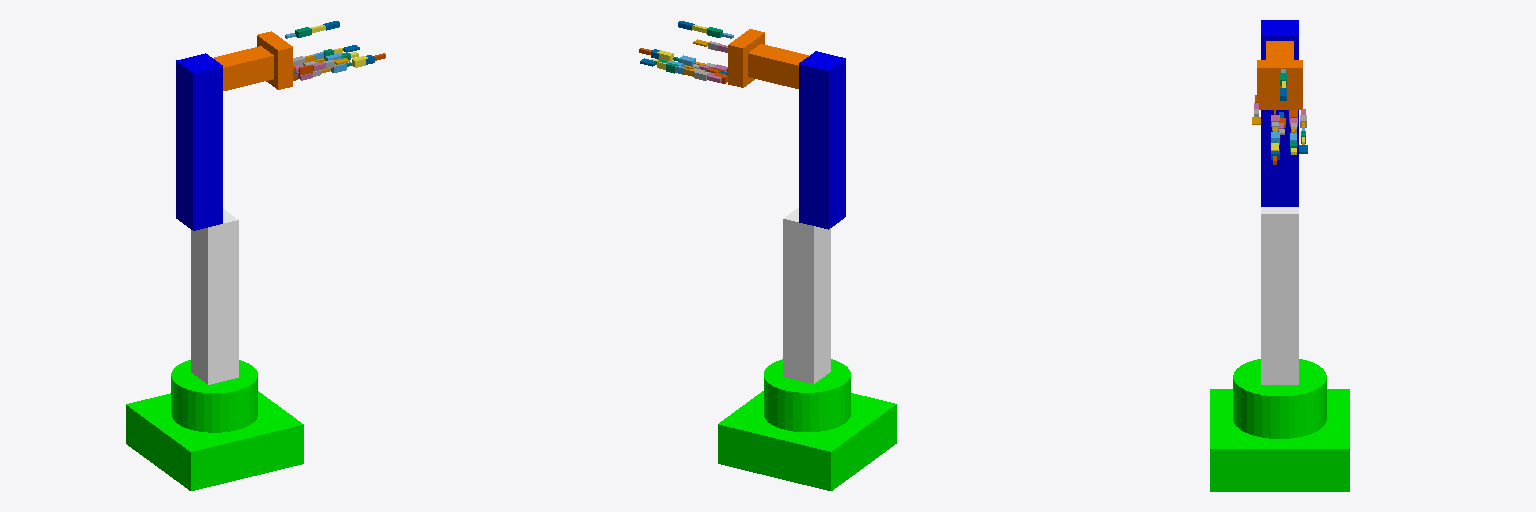
--- What the picture shows (computed from the rendered views, not written in the file) ---
3 views of the same robot in one strip: view 1: azimuth 30°, elevation 25°; view 2: azimuth 150°, elevation 25°; view 3: azimuth 270°, elevation 25° (orthographic).
Model robot with 40 links and 39 joints (36 revolute, 1 continuous, 2 fixed), rooted at base_link, posed every joint at zero.
Visible links, largest first — view 1: base_link, arm_link, support_link, wrist_link, palm_link; view 2: base_link, arm_link, support_link, wrist_link, palm_link; view 3: base_link, support_link, arm_link, palm_link, wrist_link.
Boxes of the visible links, box(x1,y1,x2,y2) form: base_link: box(126, 360, 303, 490); arm_link: box(176, 53, 222, 230); support_link: box(191, 209, 238, 384); wrist_link: box(213, 46, 273, 90); palm_link: box(257, 31, 292, 89); base_link: box(718, 359, 896, 490); arm_link: box(799, 51, 845, 229); support_link: box(783, 208, 830, 383); wrist_link: box(748, 44, 808, 88); palm_link: box(728, 29, 764, 87); base_link: box(1210, 359, 1349, 491); support_link: box(1261, 207, 1298, 384); arm_link: box(1261, 20, 1298, 206); palm_link: box(1257, 60, 1302, 109); wrist_link: box(1266, 41, 1293, 59).
Bounding box of the posed robot: 1.49 × 0.75 × 2.54 m (x, y, z).
Geometry: primitives only (box / cylinder / sphere), no mesh files.

The robot description file, URDF, robot "robot":
<?xml version='1.0' encoding='utf-8'?>
<robot name="robot">
  <link name="base_link">
    <visual>
      <origin xyz="0 0 0.125" rpy="0 0 0" />
      <geometry>
        <box size="0.75 0.75 0.25" />
      </geometry>
      <material name="green" />
    </visual>
    <visual>
      <origin xyz="0 0 0.375" rpy="0 0 0" />
      <geometry>
        <cylinder length="0.25" radius="0.25" />
      </geometry>
      <material name="green">
        <color rgba="0 1 0 1" />
      </material>
    </visual>
    <collision>
      <geometry>
        <box size="0.75 0.75 0.5" />
      </geometry>
    </collision>
    <inertial>
      <mass value="0.5" />
      <inertia ixx="0.034" ixy="0.0" ixz="0.0" iyy="0.034" iyz="0.0" izz="0.034" />
    </inertial>
  </link>
  <link name="support_link">
    <visual>
      <origin xyz="0 0 0.5" rpy="0 0 0" />
      <geometry>
        <box size="0.2 0.2 1" />
      </geometry>
      <material name="white">
        <color rgba="1 1 1 1" />
      </material>
    </visual>
    <collision>
      <geometry>
        <box size="0.2 0.2 1" />
      </geometry>
    </collision>
    <inertial>
      <mass value="0.1" />
      <inertia ixx="0.01" ixy="0.0" ixz="0.0" iyy="0.01" iyz="0.0" izz="0.01" />
    </inertial>
  </link>
  <joint name="support_joint" type="continuous">
    <origin xyz="0 0 0.5" rpy="0 0 0" />
    <parent link="base_link" />
    <child link="support_link" />
    <axis xyz="0 0 1" />
  </joint>
  <link name="arm_link">
    <visual>
      <origin xyz="0 0 0.5" rpy="0 0 0" />
      <geometry>
        <box size="0.2 0.2 1" />
      </geometry>
      <material name="blue">
        <color rgba="0 0 1 1" />
      </material>
    </visual>
    <collision>
      <geometry>
        <box size="0.2 0.2 1" />
      </geometry>
    </collision>
    <inertial>
      <mass value="0.1" />
      <inertia ixx="0.01" ixy="0.0" ixz="0.0" iyy="0.01" iyz="0.0" izz="0.01" />
    </inertial>
  </link>
  <joint name="arm_joint" type="revolute">
    <origin xyz="-0.1 0 1" rpy="0 0 0" />
    <parent link="support_link" />
    <child link="arm_link" />
    <axis xyz="0 1 0" />
    <limit lower="-3.14" upper="3.14" effort="1.0" velocity="1.0" />
  </joint>
  <link name="wrist_link">
    <visual>
      <origin xyz="0 0 0.25" rpy="0 0 0" />
      <geometry>
        <box size="0.15 0.15 0.5" />
      </geometry>
      <material name="orange">
        <color rgba="1 0.5 0 1" />
      </material>
    </visual>
    <collision>
      <geometry>
        <box size="0.15 0.15 0.5" />
      </geometry>
    </collision>
    <inertial>
      <mass value="0.1" />
      <inertia ixx="0.01" ixy="0.0" ixz="0.0" iyy="0.01" iyz="0.0" izz="0.01" />
    </inertial>
  </link>
  <joint name="wrist_joint" type="fixed">
    <origin xyz="0 0 0.9" rpy="0 1.571 0" />
    <parent link="arm_link" />
    <child link="wrist_link" />
  </joint>
  <link name="palm_link">
    <visual>
      <origin xyz="0 0 0.05" rpy="0 0 0" />
      <geometry>
        <box size="0.25 0.25 0.1" />
      </geometry>
      <material name="orange" />
    </visual>
    <collision>
      <geometry>
        <box size="0.25 0.25 0.1" />
      </geometry>
    </collision>
    <inertial>
      <mass value="0.1" />
      <inertia ixx="0.01" ixy="0.0" ixz="0.0" iyy="0.01" iyz="0.0" izz="0.01" />
    </inertial>
  </link>
  <joint name="palm_joint" type="fixed">
    <origin xyz="0 0 0.45" rpy="0 0 0" />
    <parent link="wrist_link" />
    <child link="palm_link" />
  </joint>
  <link name="finger_link_0_0">
    <visual>
      <origin xyz="0 0 0.041" rpy="0 0 0" />
      <geometry>
        <box size="0.047 0.012 0.082" />
      </geometry>
    </visual>
    <collision>
      <geometry>
        <box size="0.047 0.012 0.082" />
      </geometry>
    </collision>
    <inertial>
      <mass value="0.014" />
      <inertia ixx="0.0" iyy="0.0" izz="0.0" ixy="0" ixz="0" iyz="0" />
    </inertial>
  </link>
  <joint name="finger_joint_palm_link_to_finger_link_0_0" type="revolute">
    <origin xyz="0.04 -0.125 0.141" rpy="0 0 0" />
    <parent link="palm_link" />
    <child link="finger_link_0_0" />
    <axis xyz="1.0 0.0 0.0" />
    <limit lower="-3.142" upper="3.142" effort="10" velocity="10" />
  </joint>
  <link name="finger_link_0_1">
    <visual>
      <origin xyz="0 0 0.0465" rpy="0 0 0" />
      <geometry>
        <box size="0.033 0.024 0.093" />
      </geometry>
    </visual>
    <collision>
      <geometry>
        <box size="0.033 0.024 0.093" />
      </geometry>
    </collision>
    <inertial>
      <mass value="0.022" />
      <inertia ixx="0.0" iyy="0.0" izz="0.0" ixy="0" ixz="0" iyz="0" />
    </inertial>
  </link>
  <joint name="finger_joint_finger_link_0_0_to_finger_link_0_1" type="revolute">
    <origin xyz="0.0 0.0 0.088" rpy="0 0 0" />
    <parent link="finger_link_0_0" />
    <child link="finger_link_0_1" />
    <axis xyz="1.0 0.0 0.0" />
    <limit lower="-3.142" upper="3.142" effort="10" velocity="10" />
  </joint>
  <link name="finger_link_0_2">
    <visual>
      <origin xyz="0 0 0.0305" rpy="0 0 0" />
      <geometry>
        <box size="0.038 0.026 0.061" />
      </geometry>
    </visual>
    <collision>
      <geometry>
        <box size="0.038 0.026 0.061" />
      </geometry>
    </collision>
    <inertial>
      <mass value="0.018" />
      <inertia ixx="0.0" iyy="0.0" izz="0.0" ixy="0" ixz="0" iyz="0" />
    </inertial>
  </link>
  <joint name="finger_joint_finger_link_0_1_to_finger_link_0_2" type="revolute">
    <origin xyz="0.0 0.0 0.077" rpy="0 0 0" />
    <parent link="finger_link_0_1" />
    <child link="finger_link_0_2" />
    <axis xyz="1.0 0.0 0.0" />
    <limit lower="-3.142" upper="3.142" effort="10" velocity="10" />
  </joint>
  <link name="finger_link_0_3">
    <visual>
      <origin xyz="0 0 0.0415" rpy="0 0 0" />
      <geometry>
        <box size="0.011 0.043 0.083" />
      </geometry>
    </visual>
    <collision>
      <geometry>
        <box size="0.011 0.043 0.083" />
      </geometry>
    </collision>
    <inertial>
      <mass value="0.012" />
      <inertia ixx="0.0" iyy="0.0" izz="0.0" ixy="0" ixz="0" iyz="0" />
    </inertial>
  </link>
  <joint name="finger_joint_finger_link_0_2_to_finger_link_0_3" type="revolute">
    <origin xyz="0.0 0.0 0.072" rpy="0 0 0" />
    <parent link="finger_link_0_2" />
    <child link="finger_link_0_3" />
    <axis xyz="1.0 0.0 0.0" />
    <limit lower="-3.142" upper="3.142" effort="10" velocity="10" />
  </joint>
  <link name="finger_link_1_0">
    <visual>
      <origin xyz="0 0 0.031" rpy="0 0 0" />
      <geometry>
        <box size="0.016 0.023 0.062" />
      </geometry>
    </visual>
    <collision>
      <geometry>
        <box size="0.016 0.023 0.062" />
      </geometry>
    </collision>
    <inertial>
      <mass value="0.007" />
      <inertia ixx="0.0" iyy="0.0" izz="0.0" ixy="0" ixz="0" iyz="0" />
    </inertial>
  </link>
  <joint name="finger_joint_palm_link_to_finger_link_1_0" type="revolute">
    <origin xyz="-0.125 0.019 0.131" rpy="0 0 0" />
    <parent link="palm_link" />
    <child link="finger_link_1_0" />
    <axis xyz="0.0 -1.0 0.0" />
    <limit lower="-3.142" upper="3.142" effort="10" velocity="10" />
  </joint>
  <link name="finger_link_1_1">
    <visual>
      <origin xyz="0 0 0.0435" rpy="0 0 0" />
      <geometry>
        <box size="0.038 0.038 0.087" />
      </geometry>
    </visual>
    <collision>
      <geometry>
        <box size="0.038 0.038 0.087" />
      </geometry>
    </collision>
    <inertial>
      <mass value="0.038" />
      <inertia ixx="0.0" iyy="0.0" izz="0.0" ixy="0" ixz="0" iyz="0" />
    </inertial>
  </link>
  <joint name="finger_joint_finger_link_1_0_to_finger_link_1_1" type="revolute">
    <origin xyz="0.0 0.0 0.075" rpy="0 0 0" />
    <parent link="finger_link_1_0" />
    <child link="finger_link_1_1" />
    <axis xyz="0.0 -1.0 0.0" />
    <limit lower="-3.142" upper="3.142" effort="10" velocity="10" />
  </joint>
  <link name="finger_link_1_2">
    <visual>
      <origin xyz="0 0 0.0485" rpy="0 0 0" />
      <geometry>
        <box size="0.027 0.021 0.097" />
      </geometry>
    </visual>
    <collision>
      <geometry>
        <box size="0.027 0.021 0.097" />
      </geometry>
    </collision>
    <inertial>
      <mass value="0.016" />
      <inertia ixx="0.0" iyy="0.0" izz="0.0" ixy="0" ixz="0" iyz="0" />
    </inertial>
  </link>
  <joint name="finger_joint_finger_link_1_1_to_finger_link_1_2" type="revolute">
    <origin xyz="0.0 0.0 0.092" rpy="0 0 0" />
    <parent link="finger_link_1_1" />
    <child link="finger_link_1_2" />
    <axis xyz="0.0 -1.0 0.0" />
    <limit lower="-3.142" upper="3.142" effort="10" velocity="10" />
  </joint>
  <link name="finger_link_1_3">
    <visual>
      <origin xyz="0 0 0.0455" rpy="0 0 0" />
      <geometry>
        <box size="0.03 0.033 0.091" />
      </geometry>
    </visual>
    <collision>
      <geometry>
        <box size="0.03 0.033 0.091" />
      </geometry>
    </collision>
    <inertial>
      <mass value="0.027" />
      <inertia ixx="0.0" iyy="0.0" izz="0.0" ixy="0" ixz="0" iyz="0" />
    </inertial>
  </link>
  <joint name="finger_joint_finger_link_1_2_to_finger_link_1_3" type="revolute">
    <origin xyz="0.0 0.0 0.094" rpy="0 0 0" />
    <parent link="finger_link_1_2" />
    <child link="finger_link_1_3" />
    <axis xyz="0.0 -1.0 0.0" />
    <limit lower="-3.142" upper="3.142" effort="10" velocity="10" />
  </joint>
  <link name="finger_link_2_0">
    <visual>
      <origin xyz="0 0 0.0295" rpy="0 0 0" />
      <geometry>
        <box size="0.034 0.011 0.059" />
      </geometry>
    </visual>
    <collision>
      <geometry>
        <box size="0.034 0.011 0.059" />
      </geometry>
    </collision>
    <inertial>
      <mass value="0.007" />
      <inertia ixx="0.0" iyy="0.0" izz="0.0" ixy="0" ixz="0" iyz="0" />
    </inertial>
  </link>
  <joint name="finger_joint_palm_link_to_finger_link_2_0" type="revolute">
    <origin xyz="0.125 -0.025 0.129" rpy="0 0 0" />
    <parent link="palm_link" />
    <child link="finger_link_2_0" />
    <axis xyz="0.0 1.0 0.0" />
    <limit lower="-3.142" upper="3.142" effort="10" velocity="10" />
  </joint>
  <link name="finger_link_2_1">
    <visual>
      <origin xyz="0 0 0.0385" rpy="0 0 0" />
      <geometry>
        <box size="0.033 0.049 0.077" />
      </geometry>
    </visual>
    <collision>
      <geometry>
        <box size="0.033 0.049 0.077" />
      </geometry>
    </collision>
    <inertial>
      <mass value="0.037" />
      <inertia ixx="0.0" iyy="0.0" izz="0.0" ixy="0" ixz="0" iyz="0" />
    </inertial>
  </link>
  <joint name="finger_joint_finger_link_2_0_to_finger_link_2_1" type="revolute">
    <origin xyz="0.0 0.0 0.068" rpy="0 0 0" />
    <parent link="finger_link_2_0" />
    <child link="finger_link_2_1" />
    <axis xyz="0.0 1.0 0.0" />
    <limit lower="-3.142" upper="3.142" effort="10" velocity="10" />
  </joint>
  <link name="finger_link_2_2">
    <visual>
      <origin xyz="0 0 0.032" rpy="0 0 0" />
      <geometry>
        <box size="0.03 0.038 0.064" />
      </geometry>
    </visual>
    <collision>
      <geometry>
        <box size="0.03 0.038 0.064" />
      </geometry>
    </collision>
    <inertial>
      <mass value="0.022" />
      <inertia ixx="0.0" iyy="0.0" izz="0.0" ixy="0" ixz="0" iyz="0" />
    </inertial>
  </link>
  <joint name="finger_joint_finger_link_2_1_to_finger_link_2_2" type="revolute">
    <origin xyz="0.0 0.0 0.07" rpy="0 0 0" />
    <parent link="finger_link_2_1" />
    <child link="finger_link_2_2" />
    <axis xyz="0.0 1.0 0.0" />
    <limit lower="-3.142" upper="3.142" effort="10" velocity="10" />
  </joint>
  <link name="finger_link_2_3">
    <visual>
      <origin xyz="0 0 0.0345" rpy="0 0 0" />
      <geometry>
        <box size="0.017 0.025 0.069" />
      </geometry>
    </visual>
    <collision>
      <geometry>
        <box size="0.017 0.025 0.069" />
      </geometry>
    </collision>
    <inertial>
      <mass value="0.009" />
      <inertia ixx="0.0" iyy="0.0" izz="0.0" ixy="0" ixz="0" iyz="0" />
    </inertial>
  </link>
  <joint name="finger_joint_finger_link_2_2_to_finger_link_2_3" type="revolute">
    <origin xyz="0.0 0.0 0.066" rpy="0 0 0" />
    <parent link="finger_link_2_2" />
    <child link="finger_link_2_3" />
    <axis xyz="0.0 1.0 0.0" />
    <limit lower="-3.142" upper="3.142" effort="10" velocity="10" />
  </joint>
  <link name="finger_link_2_4">
    <visual>
      <origin xyz="0 0 0.043" rpy="0 0 0" />
      <geometry>
        <box size="0.041 0.049 0.086" />
      </geometry>
    </visual>
    <collision>
      <geometry>
        <box size="0.041 0.049 0.086" />
      </geometry>
    </collision>
    <inertial>
      <mass value="0.052" />
      <inertia ixx="0.0" iyy="0.0" izz="0.0" ixy="0" ixz="0" iyz="0" />
    </inertial>
  </link>
  <joint name="finger_joint_finger_link_2_3_to_finger_link_2_4" type="revolute">
    <origin xyz="0.0 0.0 0.078" rpy="0 0 0" />
    <parent link="finger_link_2_3" />
    <child link="finger_link_2_4" />
    <axis xyz="0.0 1.0 0.0" />
    <limit lower="-3.142" upper="3.142" effort="10" velocity="10" />
  </joint>
  <link name="finger_link_2_5">
    <visual>
      <origin xyz="0 0 0.0295" rpy="0 0 0" />
      <geometry>
        <box size="0.015 0.018 0.059" />
      </geometry>
    </visual>
    <collision>
      <geometry>
        <box size="0.015 0.018 0.059" />
      </geometry>
    </collision>
    <inertial>
      <mass value="0.005" />
      <inertia ixx="0.0" iyy="0.0" izz="0.0" ixy="0" ixz="0" iyz="0" />
    </inertial>
  </link>
  <joint name="finger_joint_finger_link_2_4_to_finger_link_2_5" type="revolute">
    <origin xyz="0.0 0.0 0.073" rpy="0 0 0" />
    <parent link="finger_link_2_4" />
    <child link="finger_link_2_5" />
    <axis xyz="0.0 1.0 0.0" />
    <limit lower="-3.142" upper="3.142" effort="10" velocity="10" />
  </joint>
  <link name="finger_link_2_6">
    <visual>
      <origin xyz="0 0 0.0435" rpy="0 0 0" />
      <geometry>
        <box size="0.042 0.041 0.087" />
      </geometry>
    </visual>
    <collision>
      <geometry>
        <box size="0.042 0.041 0.087" />
      </geometry>
    </collision>
    <inertial>
      <mass value="0.045" />
      <inertia ixx="0.0" iyy="0.0" izz="0.0" ixy="0" ixz="0" iyz="0" />
    </inertial>
  </link>
  <joint name="finger_joint_finger_link_2_5_to_finger_link_2_6" type="revolute">
    <origin xyz="0.0 0.0 0.073" rpy="0 0 0" />
    <parent link="finger_link_2_5" />
    <child link="finger_link_2_6" />
    <axis xyz="0.0 1.0 0.0" />
    <limit lower="-3.142" upper="3.142" effort="10" velocity="10" />
  </joint>
  <link name="finger_link_2_7">
    <visual>
      <origin xyz="0 0 0.0285" rpy="0 0 0" />
      <geometry>
        <box size="0.035 0.046 0.057" />
      </geometry>
    </visual>
    <collision>
      <geometry>
        <box size="0.035 0.046 0.057" />
      </geometry>
    </collision>
    <inertial>
      <mass value="0.028" />
      <inertia ixx="0.0" iyy="0.0" izz="0.0" ixy="0" ixz="0" iyz="0" />
    </inertial>
  </link>
  <joint name="finger_joint_finger_link_2_6_to_finger_link_2_7" type="revolute">
    <origin xyz="0.0 0.0 0.072" rpy="0 0 0" />
    <parent link="finger_link_2_6" />
    <child link="finger_link_2_7" />
    <axis xyz="0.0 1.0 0.0" />
    <limit lower="-3.142" upper="3.142" effort="10" velocity="10" />
  </joint>
  <link name="finger_link_2_8">
    <visual>
      <origin xyz="0 0 0.037" rpy="0 0 0" />
      <geometry>
        <box size="0.023 0.022 0.074" />
      </geometry>
    </visual>
    <collision>
      <geometry>
        <box size="0.023 0.022 0.074" />
      </geometry>
    </collision>
    <inertial>
      <mass value="0.011" />
      <inertia ixx="0.0" iyy="0.0" izz="0.0" ixy="0" ixz="0" iyz="0" />
    </inertial>
  </link>
  <joint name="finger_joint_finger_link_2_7_to_finger_link_2_8" type="revolute">
    <origin xyz="0.0 0.0 0.065" rpy="0 0 0" />
    <parent link="finger_link_2_7" />
    <child link="finger_link_2_8" />
    <axis xyz="0.0 1.0 0.0" />
    <limit lower="-3.142" upper="3.142" effort="10" velocity="10" />
  </joint>
  <link name="finger_link_3_0">
    <visual>
      <origin xyz="0 0 0.0465" rpy="0 0 0" />
      <geometry>
        <box size="0.026 0.029 0.093" />
      </geometry>
    </visual>
    <collision>
      <geometry>
        <box size="0.026 0.029 0.093" />
      </geometry>
    </collision>
    <inertial>
      <mass value="0.021" />
      <inertia ixx="0.0" iyy="0.0" izz="0.0" ixy="0" ixz="0" iyz="0" />
    </inertial>
  </link>
  <joint name="finger_joint_palm_link_to_finger_link_3_0" type="revolute">
    <origin xyz="0.109 0.125 0.146" rpy="0 0 0" />
    <parent link="palm_link" />
    <child link="finger_link_3_0" />
    <axis xyz="-1.0 0.0 0.0" />
    <limit lower="-3.142" upper="3.142" effort="10" velocity="10" />
  </joint>
  <link name="finger_link_3_1">
    <visual>
      <origin xyz="0 0 0.04" rpy="0 0 0" />
      <geometry>
        <box size="0.038 0.04 0.08" />
      </geometry>
    </visual>
    <collision>
      <geometry>
        <box size="0.038 0.04 0.08" />
      </geometry>
    </collision>
    <inertial>
      <mass value="0.036" />
      <inertia ixx="0.0" iyy="0.0" izz="0.0" ixy="0" ixz="0" iyz="0" />
    </inertial>
  </link>
  <joint name="finger_joint_finger_link_3_0_to_finger_link_3_1" type="revolute">
    <origin xyz="0.0 0.0 0.087" rpy="0 0 0" />
    <parent link="finger_link_3_0" />
    <child link="finger_link_3_1" />
    <axis xyz="-1.0 0.0 0.0" />
    <limit lower="-3.142" upper="3.142" effort="10" velocity="10" />
  </joint>
  <link name="finger_link_3_2">
    <visual>
      <origin xyz="0 0 0.0395" rpy="0 0 0" />
      <geometry>
        <box size="0.035 0.016 0.079" />
      </geometry>
    </visual>
    <collision>
      <geometry>
        <box size="0.035 0.016 0.079" />
      </geometry>
    </collision>
    <inertial>
      <mass value="0.013" />
      <inertia ixx="0.0" iyy="0.0" izz="0.0" ixy="0" ixz="0" iyz="0" />
    </inertial>
  </link>
  <joint name="finger_joint_finger_link_3_1_to_finger_link_3_2" type="revolute">
    <origin xyz="0.0 0.0 0.079" rpy="0 0 0" />
    <parent link="finger_link_3_1" />
    <child link="finger_link_3_2" />
    <axis xyz="-1.0 0.0 0.0" />
    <limit lower="-3.142" upper="3.142" effort="10" velocity="10" />
  </joint>
  <link name="finger_link_3_3">
    <visual>
      <origin xyz="0 0 0.0325" rpy="0 0 0" />
      <geometry>
        <box size="0.04 0.017 0.065" />
      </geometry>
    </visual>
    <collision>
      <geometry>
        <box size="0.04 0.017 0.065" />
      </geometry>
    </collision>
    <inertial>
      <mass value="0.013" />
      <inertia ixx="0.0" iyy="0.0" izz="0.0" ixy="0" ixz="0" iyz="0" />
    </inertial>
  </link>
  <joint name="finger_joint_finger_link_3_2_to_finger_link_3_3" type="revolute">
    <origin xyz="0.0 0.0 0.072" rpy="0 0 0" />
    <parent link="finger_link_3_2" />
    <child link="finger_link_3_3" />
    <axis xyz="-1.0 0.0 0.0" />
    <limit lower="-3.142" upper="3.142" effort="10" velocity="10" />
  </joint>
  <link name="finger_link_3_4">
    <visual>
      <origin xyz="0 0 0.029" rpy="0 0 0" />
      <geometry>
        <box size="0.047 0.026 0.058" />
      </geometry>
    </visual>
    <collision>
      <geometry>
        <box size="0.047 0.026 0.058" />
      </geometry>
    </collision>
    <inertial>
      <mass value="0.021" />
      <inertia ixx="0.0" iyy="0.0" izz="0.0" ixy="0" ixz="0" iyz="0" />
    </inertial>
  </link>
  <joint name="finger_joint_finger_link_3_3_to_finger_link_3_4" type="revolute">
    <origin xyz="0.0 0.0 0.061" rpy="0 0 0" />
    <parent link="finger_link_3_3" />
    <child link="finger_link_3_4" />
    <axis xyz="-1.0 0.0 0.0" />
    <limit lower="-3.142" upper="3.142" effort="10" velocity="10" />
  </joint>
  <link name="finger_link_3_5">
    <visual>
      <origin xyz="0 0 0.032" rpy="0 0 0" />
      <geometry>
        <box size="0.037 0.011 0.064" />
      </geometry>
    </visual>
    <collision>
      <geometry>
        <box size="0.037 0.011 0.064" />
      </geometry>
    </collision>
    <inertial>
      <mass value="0.008" />
      <inertia ixx="0.0" iyy="0.0" izz="0.0" ixy="0" ixz="0" iyz="0" />
    </inertial>
  </link>
  <joint name="finger_joint_finger_link_3_4_to_finger_link_3_5" type="revolute">
    <origin xyz="0.0 0.0 0.061" rpy="0 0 0" />
    <parent link="finger_link_3_4" />
    <child link="finger_link_3_5" />
    <axis xyz="-1.0 0.0 0.0" />
    <limit lower="-3.142" upper="3.142" effort="10" velocity="10" />
  </joint>
  <link name="finger_link_3_6">
    <visual>
      <origin xyz="0 0 0.044" rpy="0 0 0" />
      <geometry>
        <box size="0.014 0.047 0.088" />
      </geometry>
    </visual>
    <collision>
      <geometry>
        <box size="0.014 0.047 0.088" />
      </geometry>
    </collision>
    <inertial>
      <mass value="0.017" />
      <inertia ixx="0.0" iyy="0.0" izz="0.0" ixy="0" ixz="0" iyz="0" />
    </inertial>
  </link>
  <joint name="finger_joint_finger_link_3_5_to_finger_link_3_6" type="revolute">
    <origin xyz="0.0 0.0 0.076" rpy="0 0 0" />
    <parent link="finger_link_3_5" />
    <child link="finger_link_3_6" />
    <axis xyz="-1.0 0.0 0.0" />
    <limit lower="-3.142" upper="3.142" effort="10" velocity="10" />
  </joint>
  <link name="finger_link_4_0">
    <visual>
      <origin xyz="0 0 0.0405" rpy="0 0 0" />
      <geometry>
        <box size="0.039 0.045 0.081" />
      </geometry>
    </visual>
    <collision>
      <geometry>
        <box size="0.039 0.045 0.081" />
      </geometry>
    </collision>
    <inertial>
      <mass value="0.043" />
      <inertia ixx="0.0" iyy="0.0" izz="0.0" ixy="0" ixz="0" iyz="0" />
    </inertial>
  </link>
  <joint name="finger_joint_palm_link_to_finger_link_4_0" type="revolute">
    <origin xyz="0.125 0.073 0.14" rpy="0 0 0" />
    <parent link="palm_link" />
    <child link="finger_link_4_0" />
    <axis xyz="0.0 1.0 0.0" />
    <limit lower="-3.142" upper="3.142" effort="10" velocity="10" />
  </joint>
  <link name="finger_link_4_1">
    <visual>
      <origin xyz="0 0 0.0355" rpy="0 0 0" />
      <geometry>
        <box size="0.02 0.043 0.071" />
      </geometry>
    </visual>
    <collision>
      <geometry>
        <box size="0.02 0.043 0.071" />
      </geometry>
    </collision>
    <inertial>
      <mass value="0.018" />
      <inertia ixx="0.0" iyy="0.0" izz="0.0" ixy="0" ixz="0" iyz="0" />
    </inertial>
  </link>
  <joint name="finger_joint_finger_link_4_0_to_finger_link_4_1" type="revolute">
    <origin xyz="0.0 0.0 0.076" rpy="0 0 0" />
    <parent link="finger_link_4_0" />
    <child link="finger_link_4_1" />
    <axis xyz="0.0 1.0 0.0" />
    <limit lower="-3.142" upper="3.142" effort="10" velocity="10" />
  </joint>
  <link name="finger_link_4_2">
    <visual>
      <origin xyz="0 0 0.0385" rpy="0 0 0" />
      <geometry>
        <box size="0.032 0.034 0.077" />
      </geometry>
    </visual>
    <collision>
      <geometry>
        <box size="0.032 0.034 0.077" />
      </geometry>
    </collision>
    <inertial>
      <mass value="0.025" />
      <inertia ixx="0.0" iyy="0.0" izz="0.0" ixy="0" ixz="0" iyz="0" />
    </inertial>
  </link>
  <joint name="finger_joint_finger_link_4_1_to_finger_link_4_2" type="revolute">
    <origin xyz="0.0 0.0 0.074" rpy="0 0 0" />
    <parent link="finger_link_4_1" />
    <child link="finger_link_4_2" />
    <axis xyz="0.0 1.0 0.0" />
    <limit lower="-3.142" upper="3.142" effort="10" velocity="10" />
  </joint>
  <link name="finger_link_4_3">
    <visual>
      <origin xyz="0 0 0.0305" rpy="0 0 0" />
      <geometry>
        <box size="0.047 0.016 0.061" />
      </geometry>
    </visual>
    <collision>
      <geometry>
        <box size="0.047 0.016 0.061" />
      </geometry>
    </collision>
    <inertial>
      <mass value="0.014" />
      <inertia ixx="0.0" iyy="0.0" izz="0.0" ixy="0" ixz="0" iyz="0" />
    </inertial>
  </link>
  <joint name="finger_joint_finger_link_4_2_to_finger_link_4_3" type="revolute">
    <origin xyz="0.0 0.0 0.069" rpy="0 0 0" />
    <parent link="finger_link_4_2" />
    <child link="finger_link_4_3" />
    <axis xyz="0.0 1.0 0.0" />
    <limit lower="-3.142" upper="3.142" effort="10" velocity="10" />
  </joint>
  <link name="finger_link_4_4">
    <visual>
      <origin xyz="0 0 0.0455" rpy="0 0 0" />
      <geometry>
        <box size="0.05 0.035 0.091" />
      </geometry>
    </visual>
    <collision>
      <geometry>
        <box size="0.05 0.035 0.091" />
      </geometry>
    </collision>
    <inertial>
      <mass value="0.048" />
      <inertia ixx="0.0" iyy="0.0" izz="0.0" ixy="0" ixz="0" iyz="0" />
    </inertial>
  </link>
  <joint name="finger_joint_finger_link_4_3_to_finger_link_4_4" type="revolute">
    <origin xyz="0.0 0.0 0.076" rpy="0 0 0" />
    <parent link="finger_link_4_3" />
    <child link="finger_link_4_4" />
    <axis xyz="0.0 1.0 0.0" />
    <limit lower="-3.142" upper="3.142" effort="10" velocity="10" />
  </joint>
  <link name="finger_link_4_5">
    <visual>
      <origin xyz="0 0 0.0355" rpy="0 0 0" />
      <geometry>
        <box size="0.033 0.035 0.071" />
      </geometry>
    </visual>
    <collision>
      <geometry>
        <box size="0.033 0.035 0.071" />
      </geometry>
    </collision>
    <inertial>
      <mass value="0.025" />
      <inertia ixx="0.0" iyy="0.0" izz="0.0" ixy="0" ixz="0" iyz="0" />
    </inertial>
  </link>
  <joint name="finger_joint_finger_link_4_4_to_finger_link_4_5" type="revolute">
    <origin xyz="0.0 0.0 0.081" rpy="0 0 0" />
    <parent link="finger_link_4_4" />
    <child link="finger_link_4_5" />
    <axis xyz="0.0 1.0 0.0" />
    <limit lower="-3.142" upper="3.142" effort="10" velocity="10" />
  </joint>
  <link name="finger_link_4_6">
    <visual>
      <origin xyz="0 0 0.0295" rpy="0 0 0" />
      <geometry>
        <box size="0.017 0.032 0.059" />
      </geometry>
    </visual>
    <collision>
      <geometry>
        <box size="0.017 0.032 0.059" />
      </geometry>
    </collision>
    <inertial>
      <mass value="0.01" />
      <inertia ixx="0.0" iyy="0.0" izz="0.0" ixy="0" ixz="0" iyz="0" />
    </inertial>
  </link>
  <joint name="finger_joint_finger_link_4_5_to_finger_link_4_6" type="revolute">
    <origin xyz="0.0 0.0 0.065" rpy="0 0 0" />
    <parent link="finger_link_4_5" />
    <child link="finger_link_4_6" />
    <axis xyz="0.0 1.0 0.0" />
    <limit lower="-3.142" upper="3.142" effort="10" velocity="10" />
  </joint>
  <link name="finger_link_5_0">
    <visual>
      <origin xyz="0 0 0.041" rpy="0 0 0" />
      <geometry>
        <box size="0.014 0.028 0.082" />
      </geometry>
    </visual>
    <collision>
      <geometry>
        <box size="0.014 0.028 0.082" />
      </geometry>
    </collision>
    <inertial>
      <mass value="0.01" />
      <inertia ixx="0.0" iyy="0.0" izz="0.0" ixy="0" ixz="0" iyz="0" />
    </inertial>
  </link>
  <joint name="finger_joint_palm_link_to_finger_link_5_0" type="revolute">
    <origin xyz="0.125 0.009 0.141" rpy="0 0 0" />
    <parent link="palm_link" />
    <child link="finger_link_5_0" />
    <axis xyz="0.0 1.0 0.0" />
    <limit lower="-3.142" upper="3.142" effort="10" velocity="10" />
  </joint>
  <link name="finger_link_5_1">
    <visual>
      <origin xyz="0 0 0.04" rpy="0 0 0" />
      <geometry>
        <box size="0.019 0.044 0.08" />
      </geometry>
    </visual>
    <collision>
      <geometry>
        <box size="0.019 0.044 0.08" />
      </geometry>
    </collision>
    <inertial>
      <mass value="0.02" />
      <inertia ixx="0.0" iyy="0.0" izz="0.0" ixy="0" ixz="0" iyz="0" />
    </inertial>
  </link>
  <joint name="finger_joint_finger_link_5_0_to_finger_link_5_1" type="revolute">
    <origin xyz="0.0 0.0 0.081" rpy="0 0 0" />
    <parent link="finger_link_5_0" />
    <child link="finger_link_5_1" />
    <axis xyz="0.0 1.0 0.0" />
    <limit lower="-3.142" upper="3.142" effort="10" velocity="10" />
  </joint>
  <link name="finger_link_5_2">
    <visual>
      <origin xyz="0 0 0.03" rpy="0 0 0" />
      <geometry>
        <box size="0.028 0.026 0.06" />
      </geometry>
    </visual>
    <collision>
      <geometry>
        <box size="0.028 0.026 0.06" />
      </geometry>
    </collision>
    <inertial>
      <mass value="0.013" />
      <inertia ixx="0.0" iyy="0.0" izz="0.0" ixy="0" ixz="0" iyz="0" />
    </inertial>
  </link>
  <joint name="finger_joint_finger_link_5_1_to_finger_link_5_2" type="revolute">
    <origin xyz="0.0 0.0 0.07" rpy="0 0 0" />
    <parent link="finger_link_5_1" />
    <child link="finger_link_5_2" />
    <axis xyz="0.0 1.0 0.0" />
    <limit lower="-3.142" upper="3.142" effort="10" velocity="10" />
  </joint>
  <link name="finger_link_5_3">
    <visual>
      <origin xyz="0 0 0.0255" rpy="0 0 0" />
      <geometry>
        <box size="0.012 0.033 0.051" />
      </geometry>
    </visual>
    <collision>
      <geometry>
        <box size="0.012 0.033 0.051" />
      </geometry>
    </collision>
    <inertial>
      <mass value="0.006" />
      <inertia ixx="0.0" iyy="0.0" izz="0.0" ixy="0" ixz="0" iyz="0" />
    </inertial>
  </link>
  <joint name="finger_joint_finger_link_5_2_to_finger_link_5_3" type="revolute">
    <origin xyz="0.0 0.0 0.055" rpy="0 0 0" />
    <parent link="finger_link_5_2" />
    <child link="finger_link_5_3" />
    <axis xyz="0.0 1.0 0.0" />
    <limit lower="-3.142" upper="3.142" effort="10" velocity="10" />
  </joint>
</robot>
